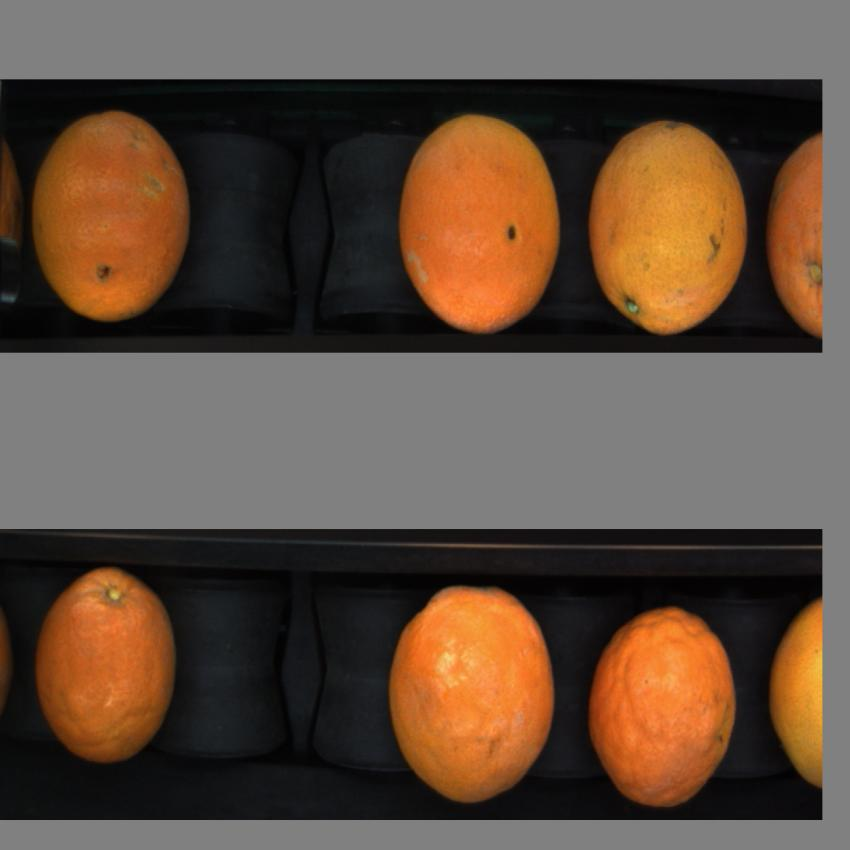Buen estado: (386, 576, 559, 808), (397, 109, 566, 344), (585, 107, 754, 338), (584, 589, 740, 810), (764, 587, 824, 804)
Mal estado: (29, 104, 194, 326), (36, 558, 182, 770), (765, 114, 822, 338)
